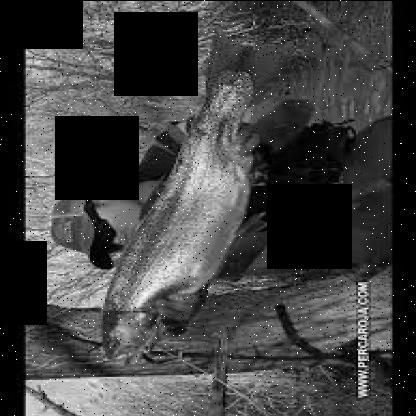fish: (96, 36, 292, 366)
